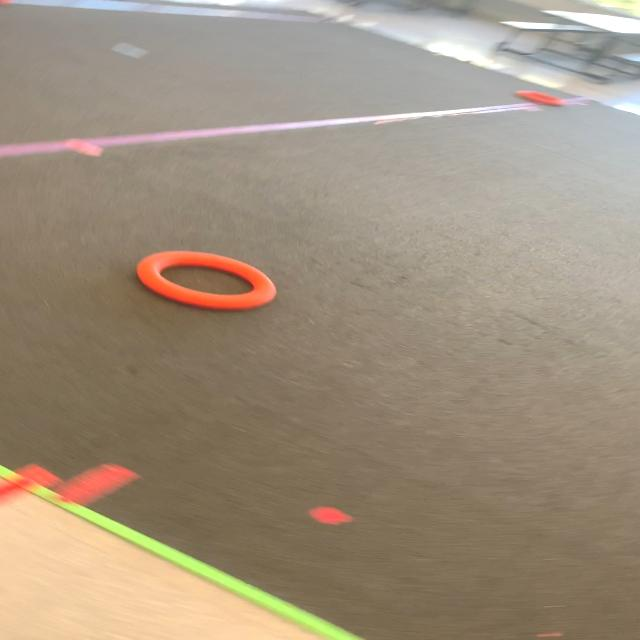notes: (137, 244, 273, 315), (511, 86, 569, 108)
